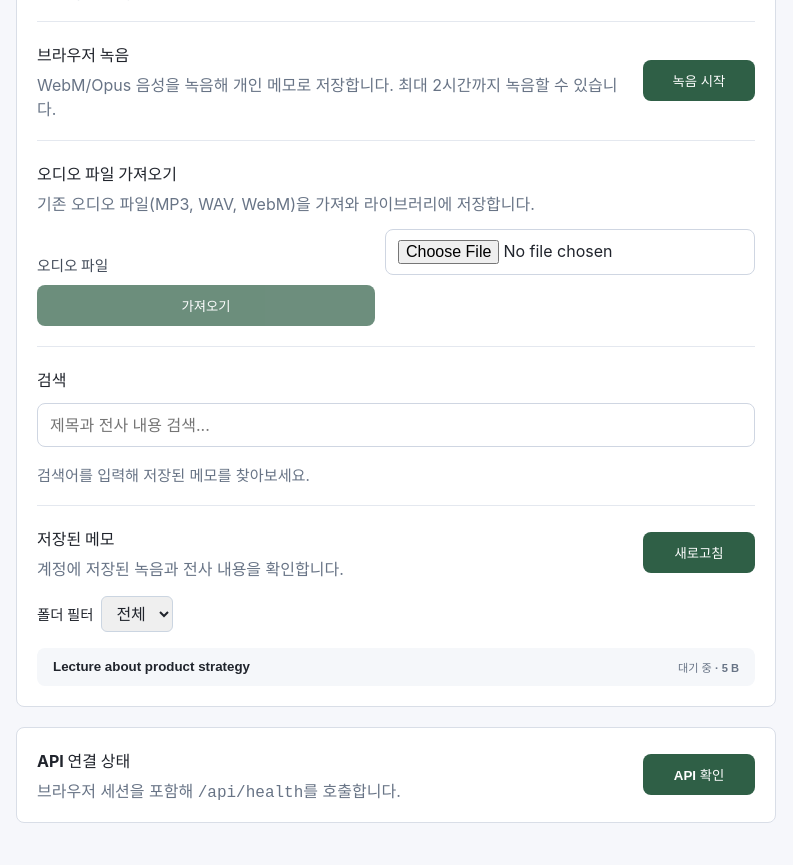
it: App transcription polling › renames the selected memo title
(page scrolled)
Click the button "Lecture about product strategy 대기 중 · 5 B": [152, 667] box [37, 648, 755, 686]
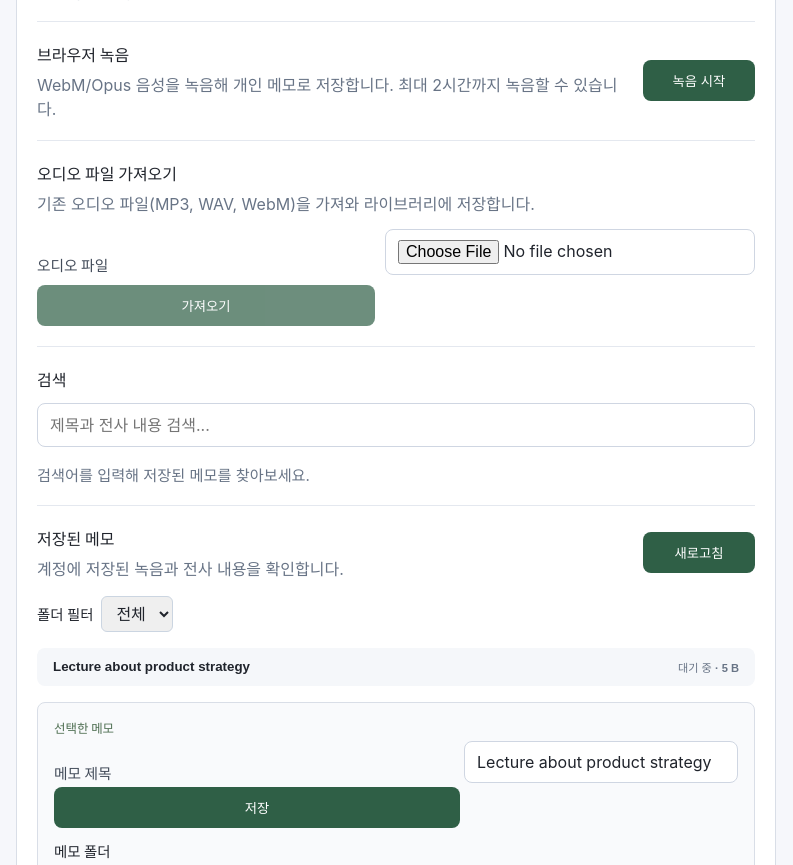
Replace the text in the field labelled "메모 제목" with "Product strategy sync": [601, 762] box [464, 741, 738, 783]
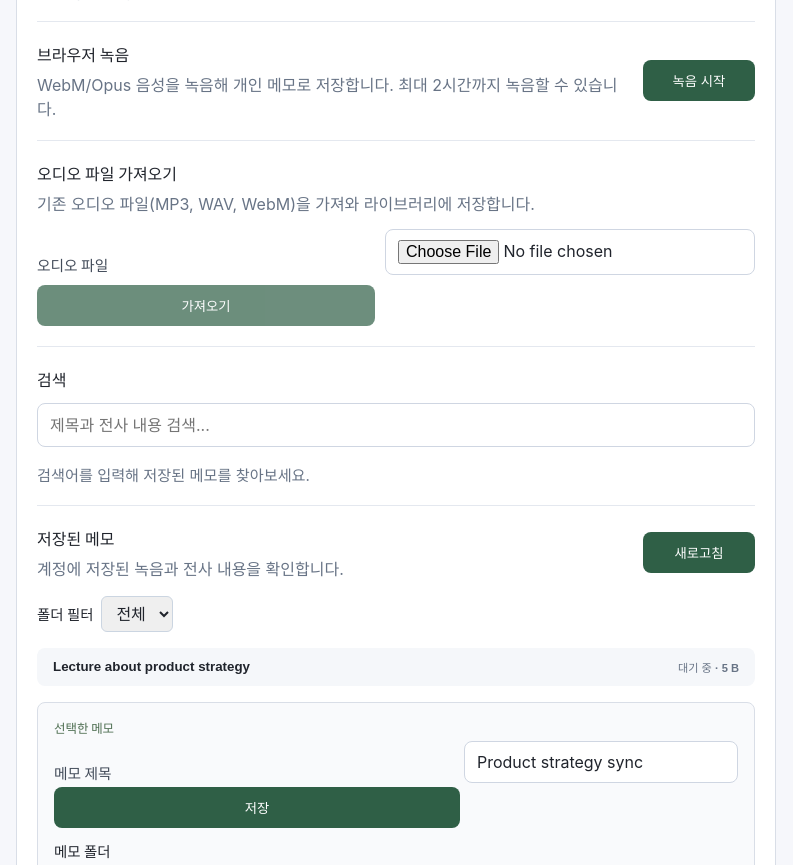
Click the button "저장": [257, 807] box [54, 787, 460, 828]
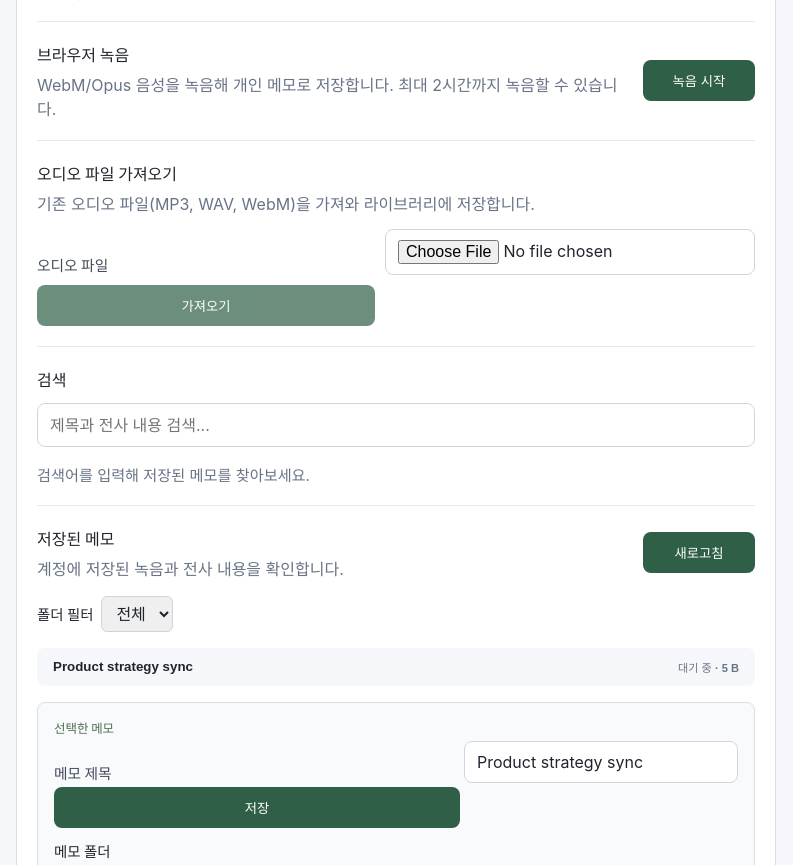
expect the text "Product strategy sync" is shown: met, box [53, 659, 193, 674]
